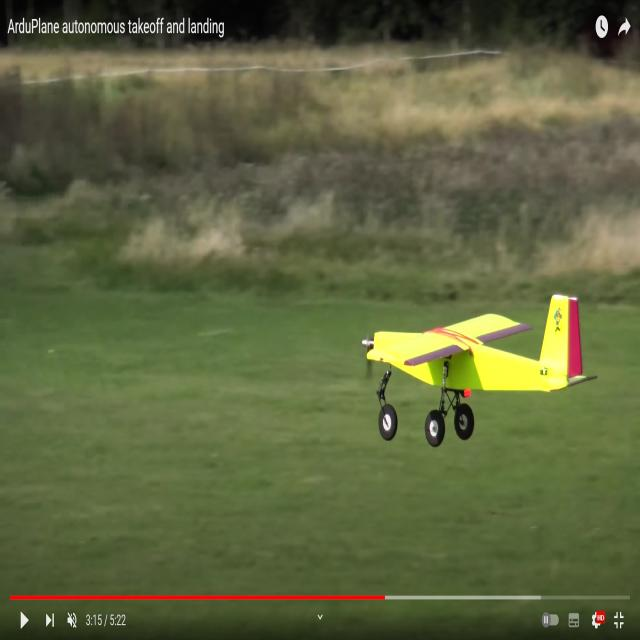iha: (362, 297, 603, 448)
